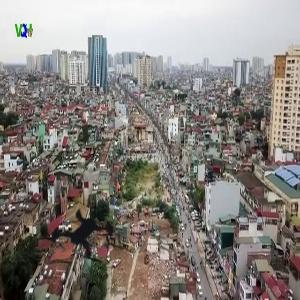drone: (22, 176, 145, 299)
